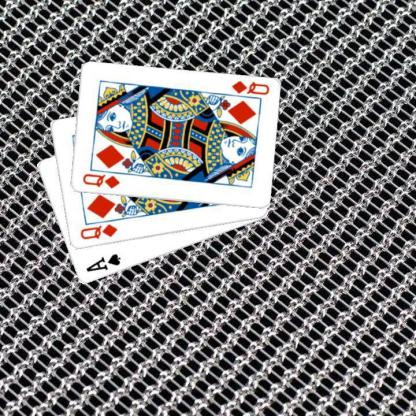AS: (83, 252, 122, 274)
QD: (78, 221, 118, 242), (80, 171, 121, 190), (229, 78, 270, 96)
